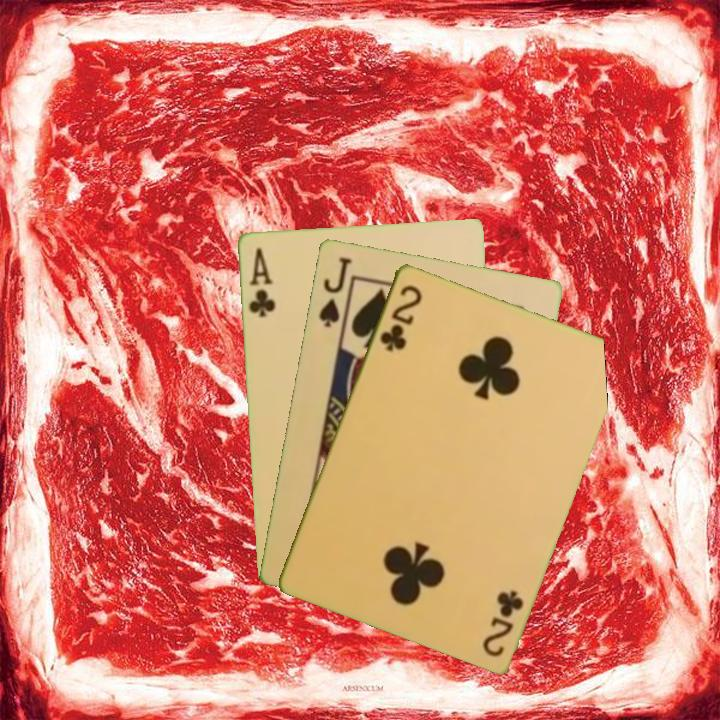2c: (375, 281, 425, 354), (478, 586, 526, 659)
Ac: (244, 243, 278, 320)
Js: (315, 253, 355, 330)
